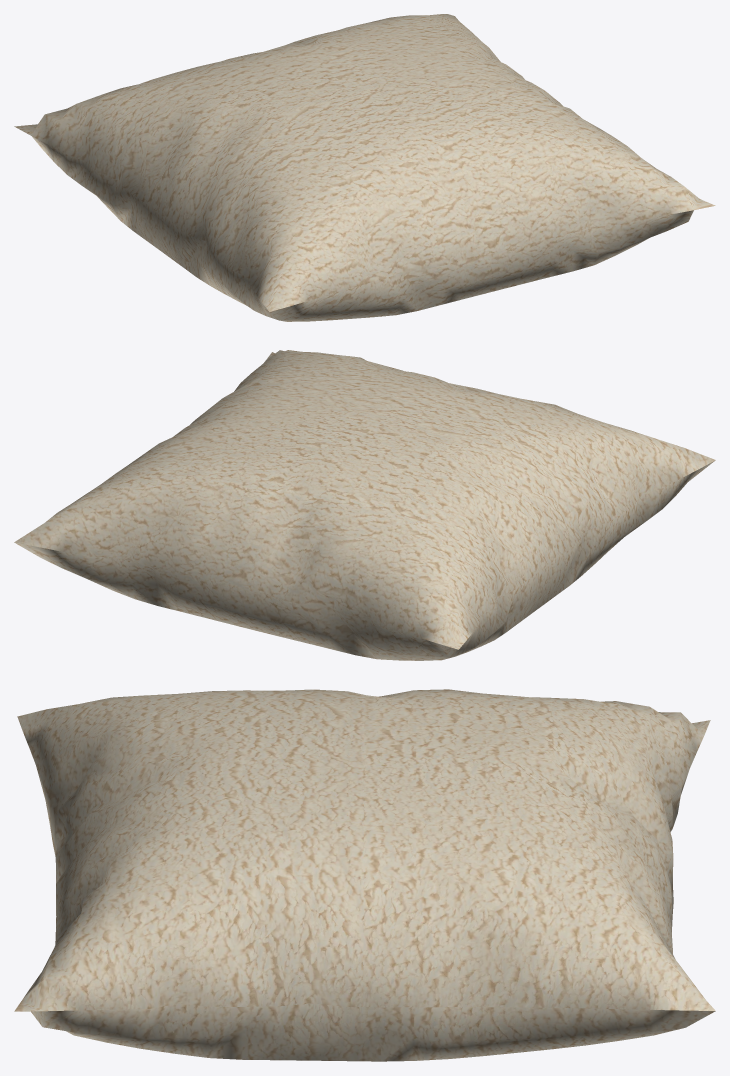
Rendered from cushion.glb.
3 views of the same model, one above another, from view 1: azimuth 30°, elevation 25°; view 2: azimuth 150°, elevation 25°; view 3: azimuth 270°, elevation 25° (orthographic). The views are drawn at different scales.
Visible parts, largest first — view 1: throw_cushion_soft; view 2: throw_cushion_soft; view 3: throw_cushion_soft.
Boxes of the visible parts, x1=… form: throw_cushion_soft: x1=14, y1=14, x2=715, y2=321; throw_cushion_soft: x1=14, y1=350, x2=715, y2=660; throw_cushion_soft: x1=14, y1=689, x2=715, y2=1061.
Bounding box in the file's own units: 0.4527 × 0.1321 × 0.4575.
1 material, 1 textured.
